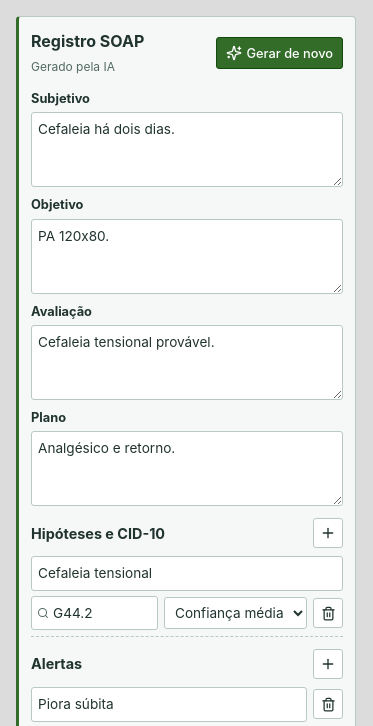
Scenario: SoapEditor › CID-10 digitado: código válido é normalizado, texto solto volta ao valor gravado
Step 1. Replace the text in the dropdown named "CID-10 da hipótese 1" with "g442" → (102, 613), box [53,597,152,629]
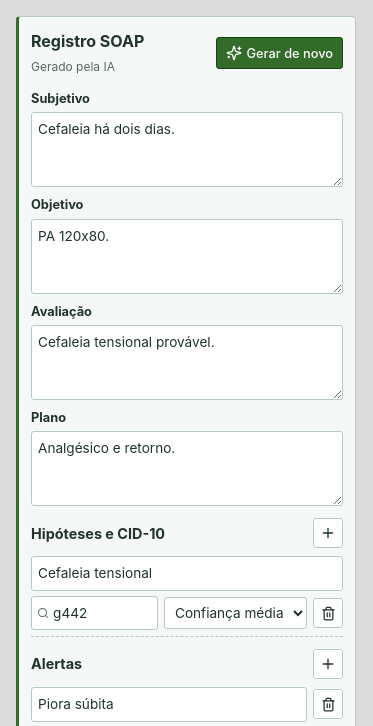
Step 2. Leave the dropdown named "CID-10 da hipótese 1", box [53,597,152,629]
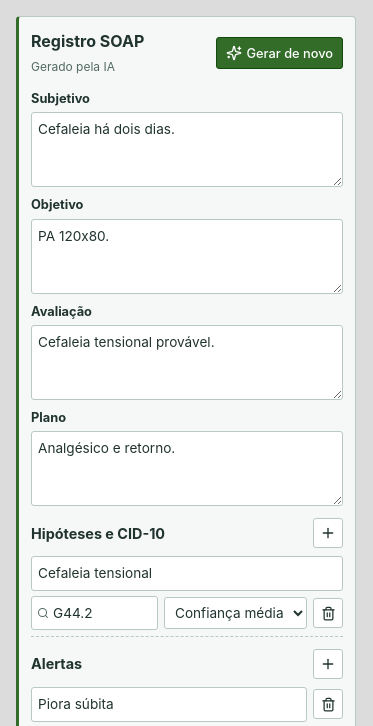
Expected: the dropdown named "CID-10 da hipótese 1" holds "G44.2"
Step 3. Replace the text in the dropdown named "CID-10 da hipótese 1" with "dor de cabeça" → (102, 613), box [53,597,152,629]
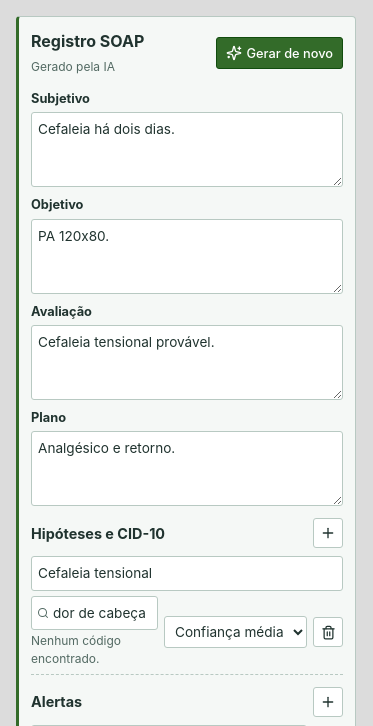
Expected: the text "Nenhum código encontrado." is shown, [31,633,121,666]
Step 4. Leave the dropdown named "CID-10 da hipótese 1", box [53,597,152,629]
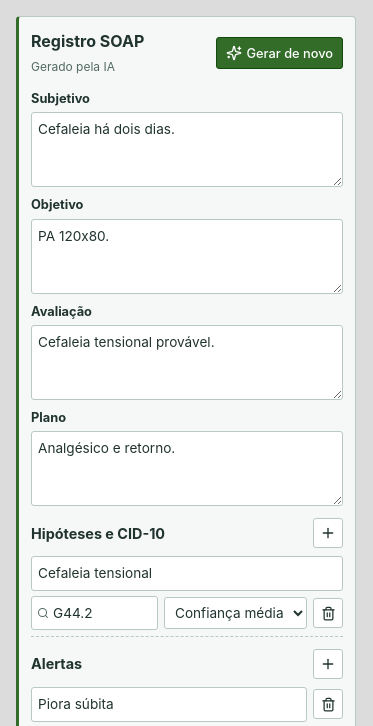
Expected: the dropdown named "CID-10 da hipótese 1" holds "G44.2", [53,597,152,629]
